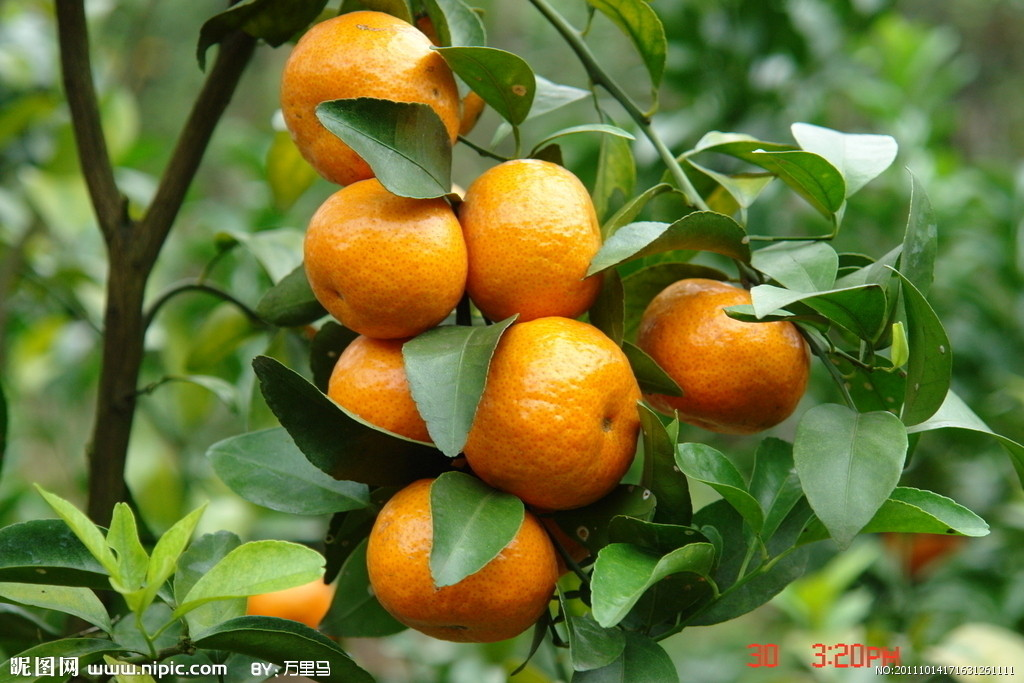orange: (456, 312, 639, 501), (367, 471, 556, 645), (280, 9, 456, 187), (301, 176, 467, 340), (639, 275, 808, 436), (464, 158, 602, 317), (328, 326, 479, 467)
